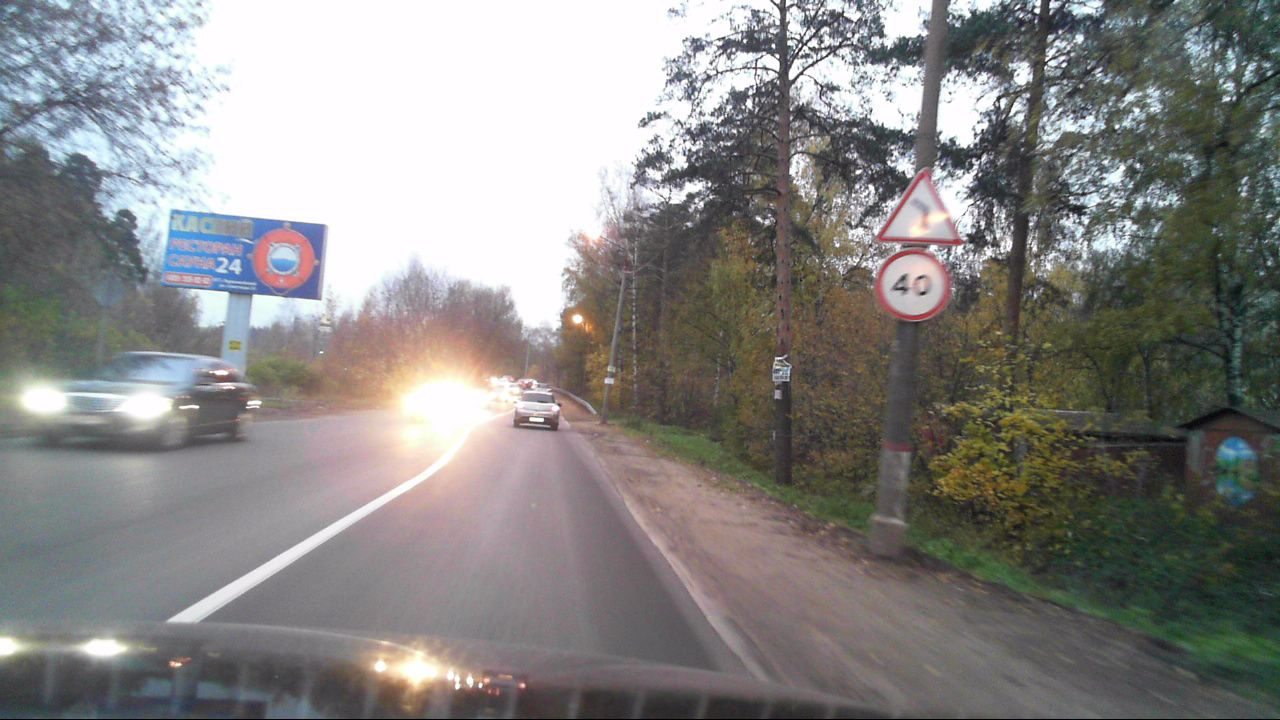speed_warning_40: (875, 251, 951, 322)
